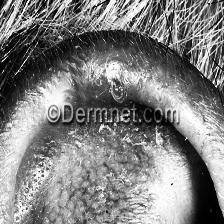Benign Marking or Mole: (59, 153, 160, 224), (100, 58, 134, 103)
